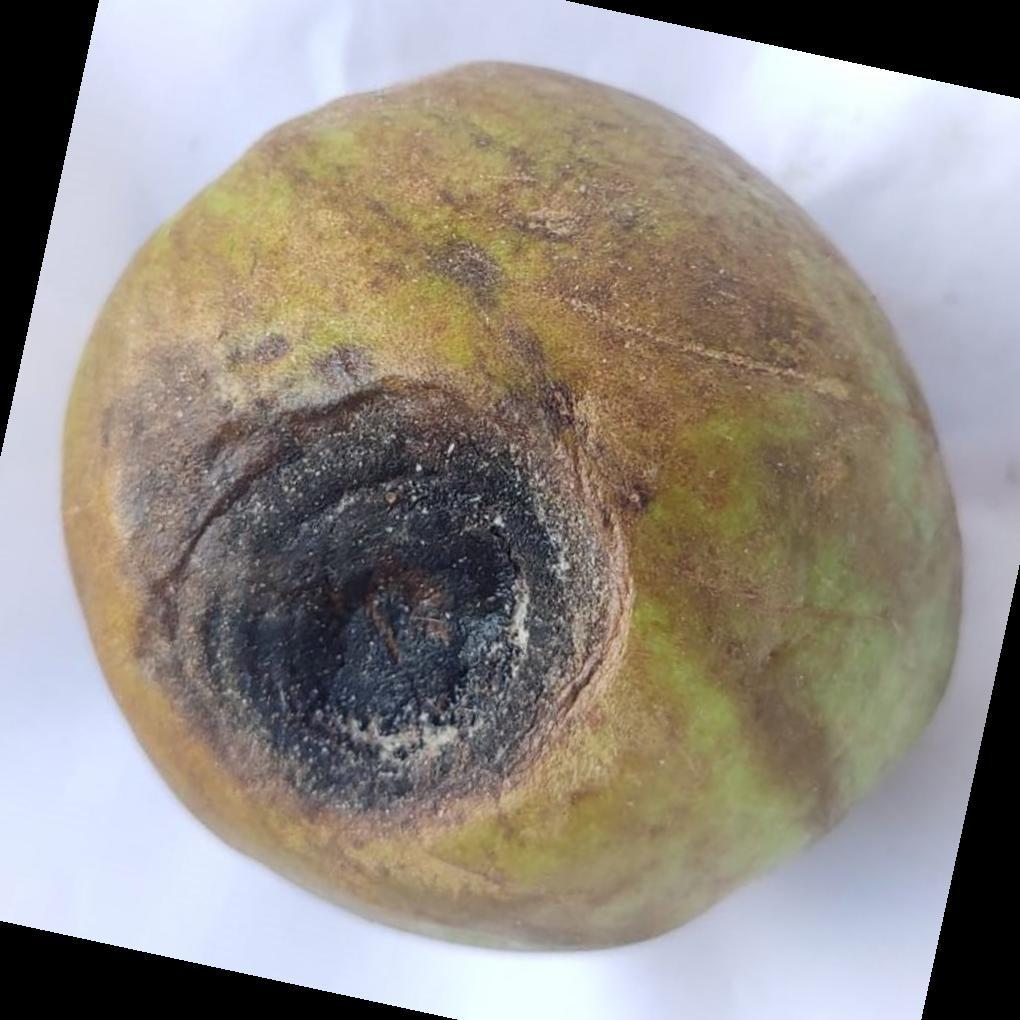FreshOrange: (59, 60, 965, 958)
